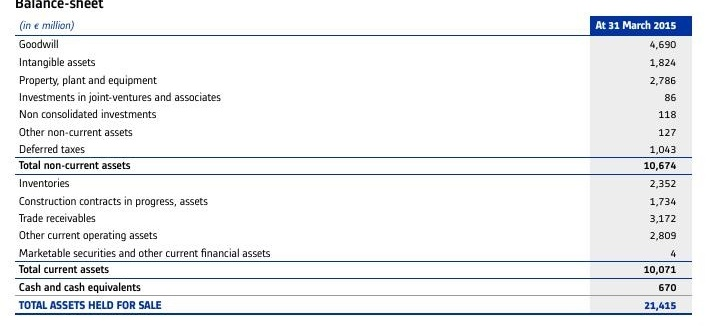table: (0, 0, 710, 329)
